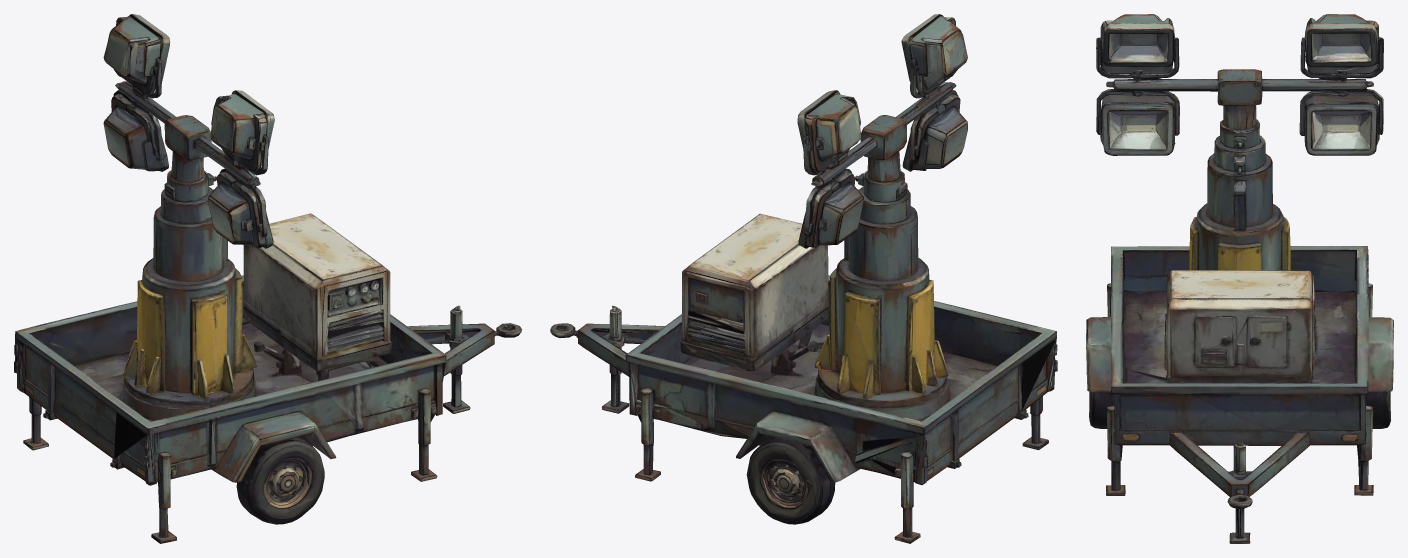
File: light_tower.glb
The picture shows the model from 3 angles, left to right: view 1: azimuth 30°, elevation 25°; view 2: azimuth 150°, elevation 25°; view 3: azimuth 270°, elevation 25°; orthographic projection. The views are drawn at different scales.
Size of the model in its own units: 1.9 by 1.68 by 1.19.
1 material, 1 textured.
